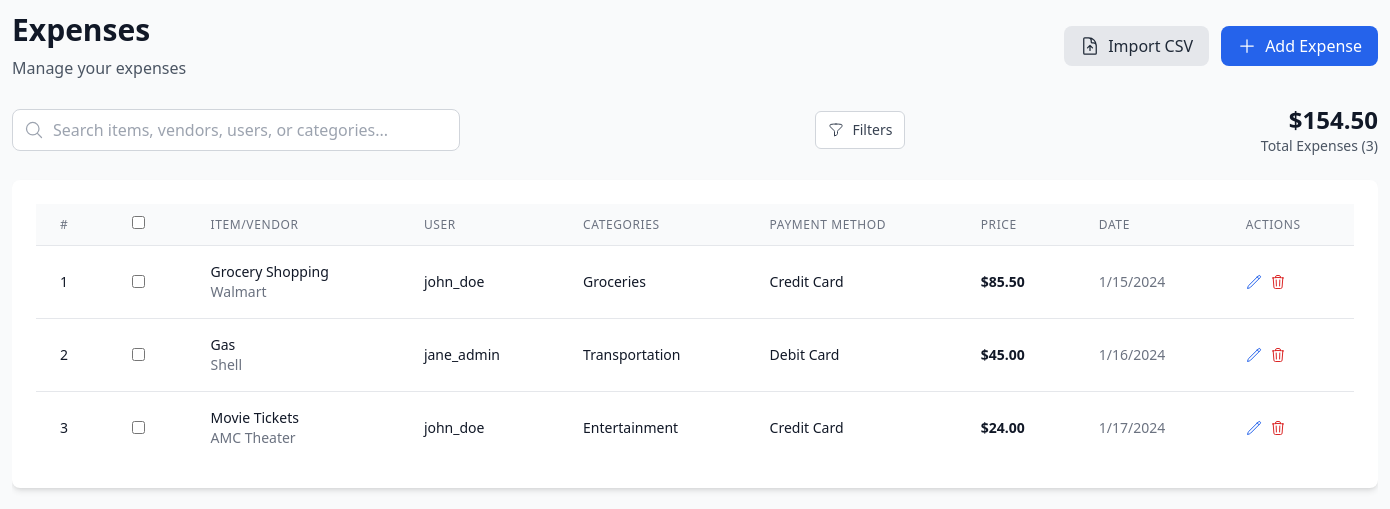
it: Expenses › Search Functionality › filters expenses by vendor
In the field with placeholder "Search items, vendors, users, or categories...": (236, 130) [12,109,460,151], type "Shell"
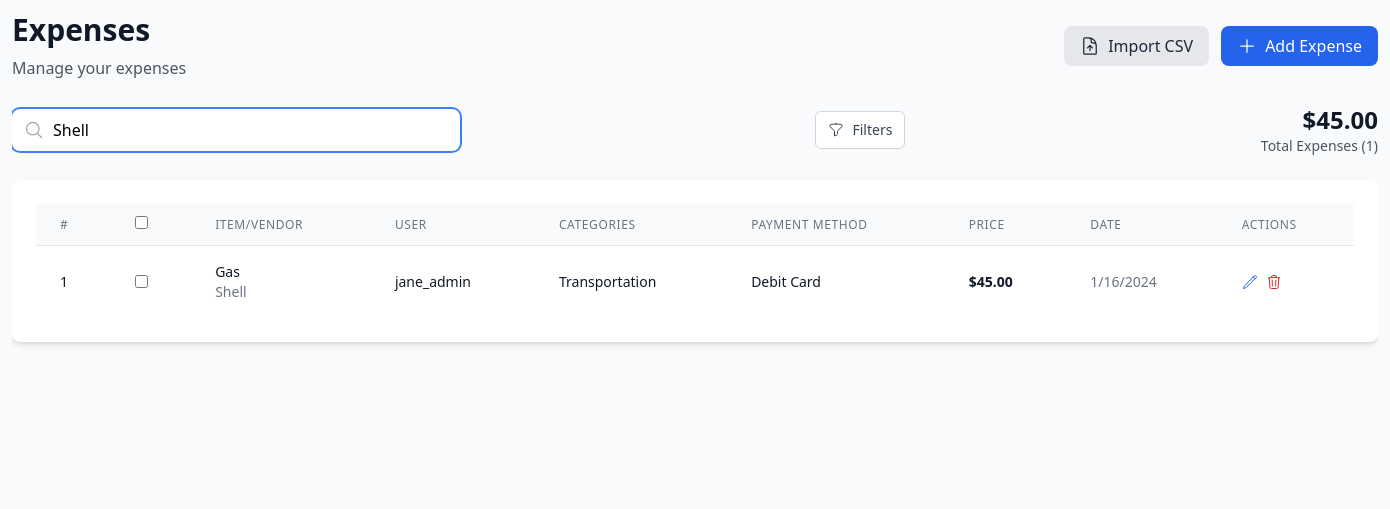
Expected: the text "Gas" is shown, [215,262,240,281]
Expected: the text "Grocery Shopping" is gone
Expected: the text "Movie Tickets" is gone
